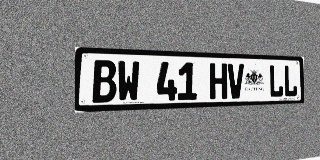1: (178, 62, 197, 100)
4: (157, 62, 177, 101)
B: (92, 60, 116, 103)
H: (210, 63, 227, 99)
L: (269, 65, 283, 98), (284, 65, 297, 97)
V: (228, 63, 244, 99)
W: (117, 60, 140, 102)
